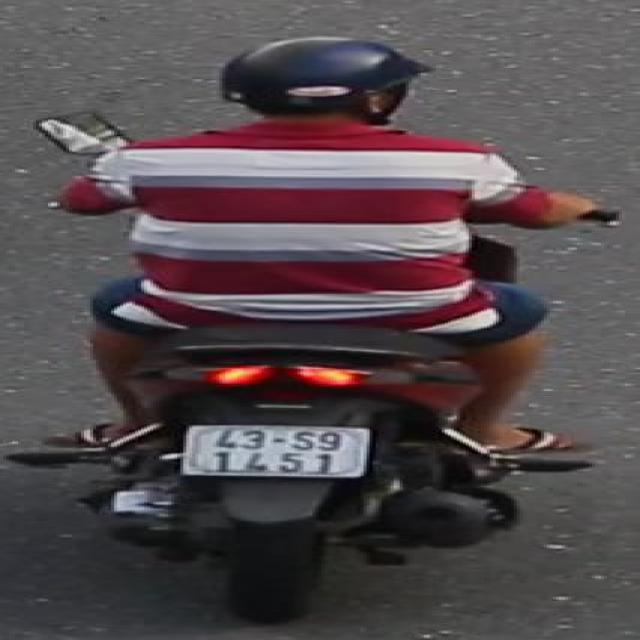LP: (177, 419, 376, 481)
helmet: (212, 32, 428, 131)
